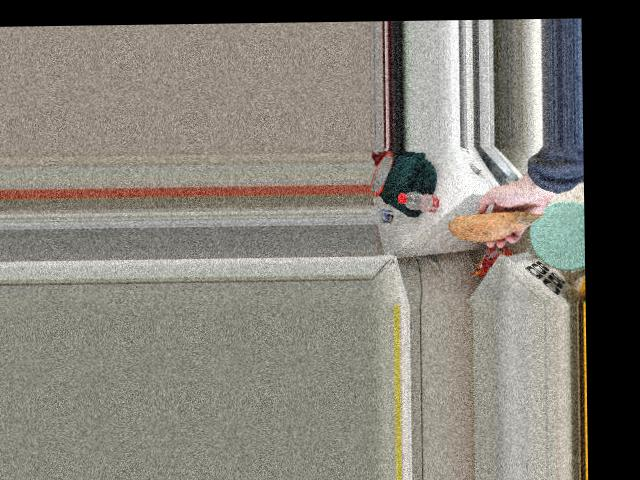sweet_potato: (457, 210, 537, 242)
